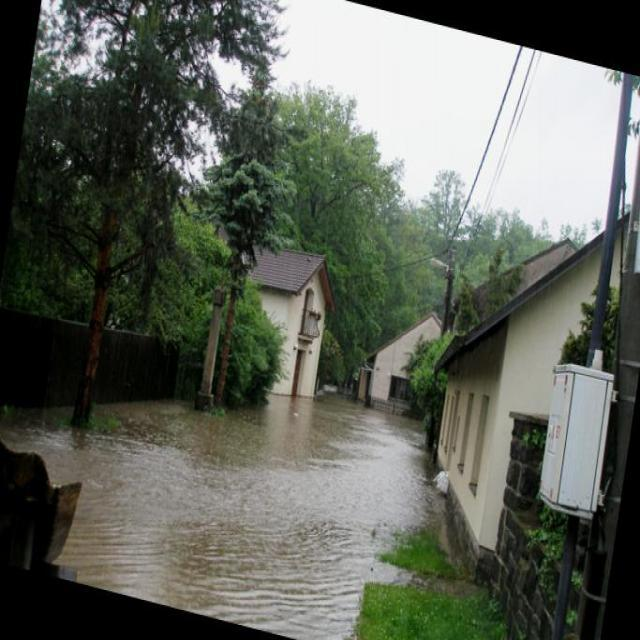flood: (48, 315, 477, 639)
